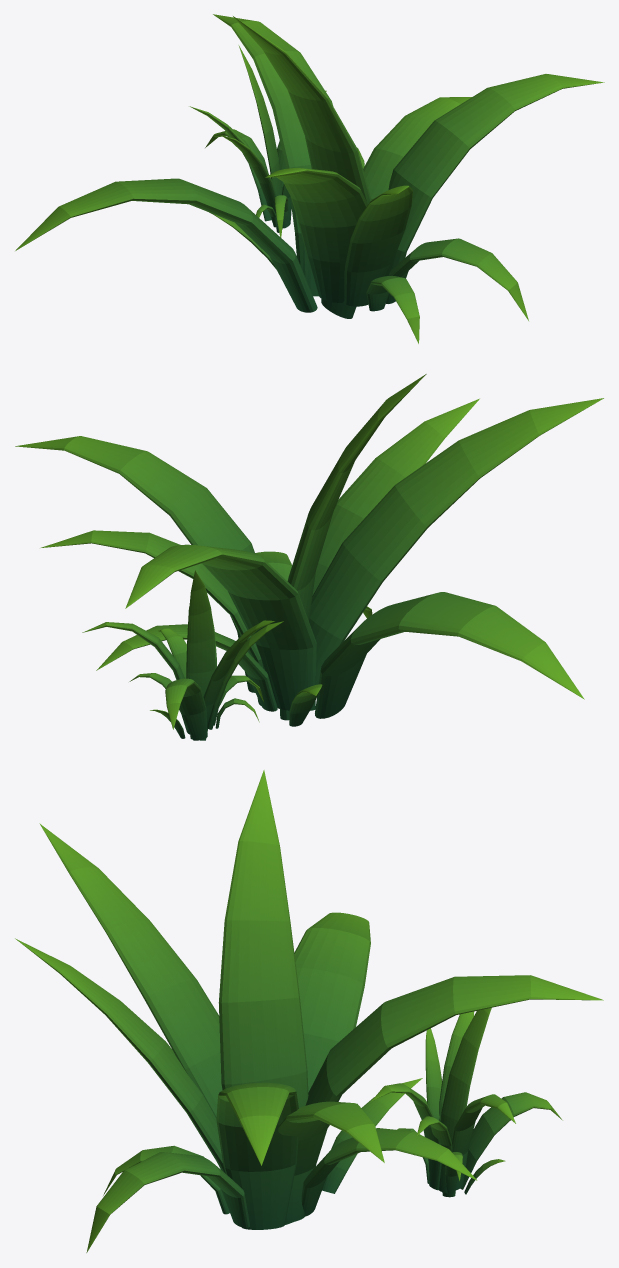
Rendered from Grass 03.fbx.
3 renders of one model, top to bottom at view 1: azimuth 30°, elevation 25°; view 2: azimuth 150°, elevation 25°; view 3: azimuth 270°, elevation 25°, orthographic. The views are drawn at different scales.
Visible parts, largest first — view 1: pCylinder12, pCylinder11, pCylinder7, pCylinder13, pCylinder3, pCylinder5, pCylinder25, pCylinder9, pCylinder8, pCylinder10; view 2: pCylinder7, pCylinder3, pCylinder11, pCylinder25, pCylinder12, pCylinder5, pCylinder13, pCylinder9, pCylinder4, pCylinder6, pCylinder8; view 3: pCylinder13, pCylinder7, pCylinder25, pCylinder3, pCylinder12, pCylinder11, pCylinder5, pCylinder9, pCylinder8, pCylinder4, pCylinder6, pCylinder10.
Boxes of the visible parts, x1,y1,x2,y2 form: pCylinder12: [386, 74, 604, 276]; pCylinder11: [15, 178, 317, 312]; pCylinder7: [265, 168, 367, 302]; pCylinder13: [233, 16, 371, 318]; pCylinder3: [213, 14, 333, 296]; pCylinder5: [344, 185, 412, 306]; pCylinder25: [189, 45, 326, 237]; pCylinder9: [363, 97, 471, 200]; pCylinder8: [386, 238, 528, 320]; pCylinder10: [366, 276, 419, 343]; pCylinder7: [309, 398, 603, 684]; pCylinder3: [125, 544, 316, 710]; pCylinder11: [315, 592, 584, 718]; pCylinder25: [82, 570, 283, 740]; pCylinder12: [15, 436, 255, 692]; pCylinder5: [312, 398, 479, 595]; pCylinder13: [280, 374, 426, 720]; pCylinder9: [41, 530, 262, 705]; pCylinder4: [96, 624, 277, 711]; pCylinder6: [289, 684, 322, 726]; pCylinder8: [255, 551, 291, 580]; pCylinder13: [218, 770, 308, 1224]; pCylinder7: [39, 823, 222, 1117]; pCylinder25: [371, 1007, 562, 1197]; pCylinder3: [305, 975, 603, 1166]; pCylinder12: [216, 1082, 298, 1229]; pCylinder11: [294, 912, 370, 1092]; pCylinder5: [15, 938, 225, 1173]; pCylinder9: [278, 1101, 384, 1223]; pCylinder8: [86, 1152, 249, 1252]; pCylinder4: [301, 1128, 477, 1216]; pCylinder6: [322, 1078, 422, 1193]; pCylinder10: [103, 1145, 229, 1214].
Bounding box in the file's own units: 74.8 × 43.03 × 59.21.
